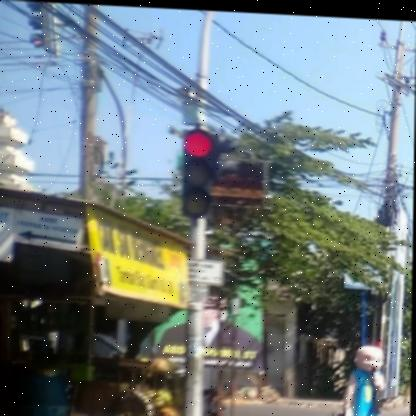Traffic Light -Red-: (184, 127, 217, 221)
